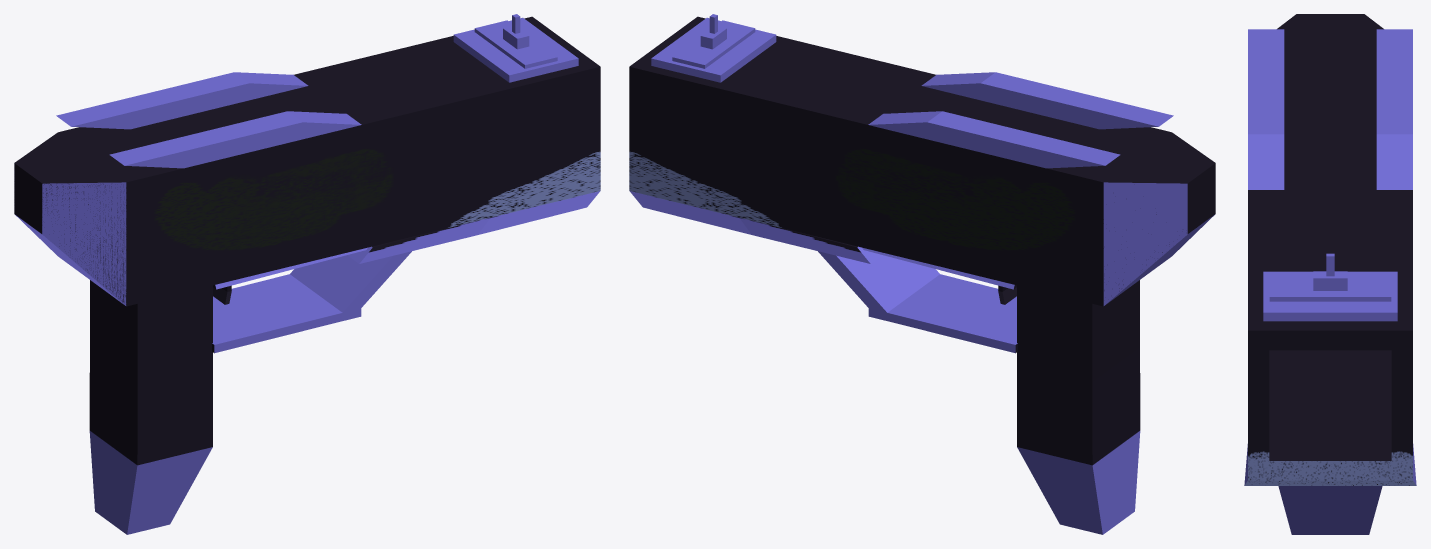
File: pistol.fbx
3 renders of one model, left to right at view 1: azimuth 30°, elevation 25°; view 2: azimuth 150°, elevation 25°; view 3: azimuth 270°, elevation 25°, orthographic. The views are drawn at different scales.
Parts seen in each view (by area): view 1: Pistol; view 2: Pistol; view 3: Pistol.
Part boxes in pixels (x1,y1,x2,y2): Pistol: [14, 14, 600, 534]; Pistol: [629, 14, 1215, 534]; Pistol: [1244, 14, 1416, 534].
Size of the model in its own units: 208 by 908 by 658.
